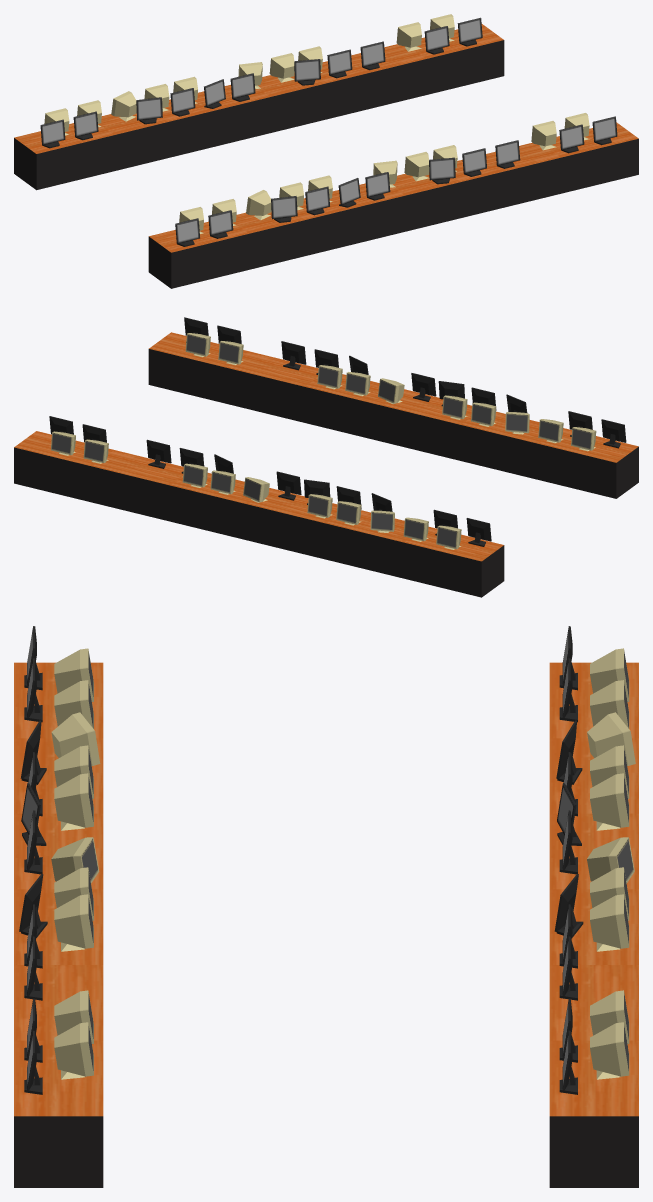
The model's file is Computers.fbx.
3 views of the same model, one above another, from view 1: azimuth 30°, elevation 25°; view 2: azimuth 150°, elevation 25°; view 3: azimuth 270°, elevation 25° (orthographic). The views are drawn at different scales.
Visible parts, largest first — view 1: polySurface434; view 2: polySurface434; view 3: polySurface434.
Boxes of the visible parts, left/top/right/bottom form: polySurface434: left=14, top=14, right=638, bottom=288; polySurface434: left=14, top=317, right=638, bottom=597; polySurface434: left=14, top=626, right=638, bottom=1187.
Bounding box in the file's own units: 12 × 1.45 × 6.99.
